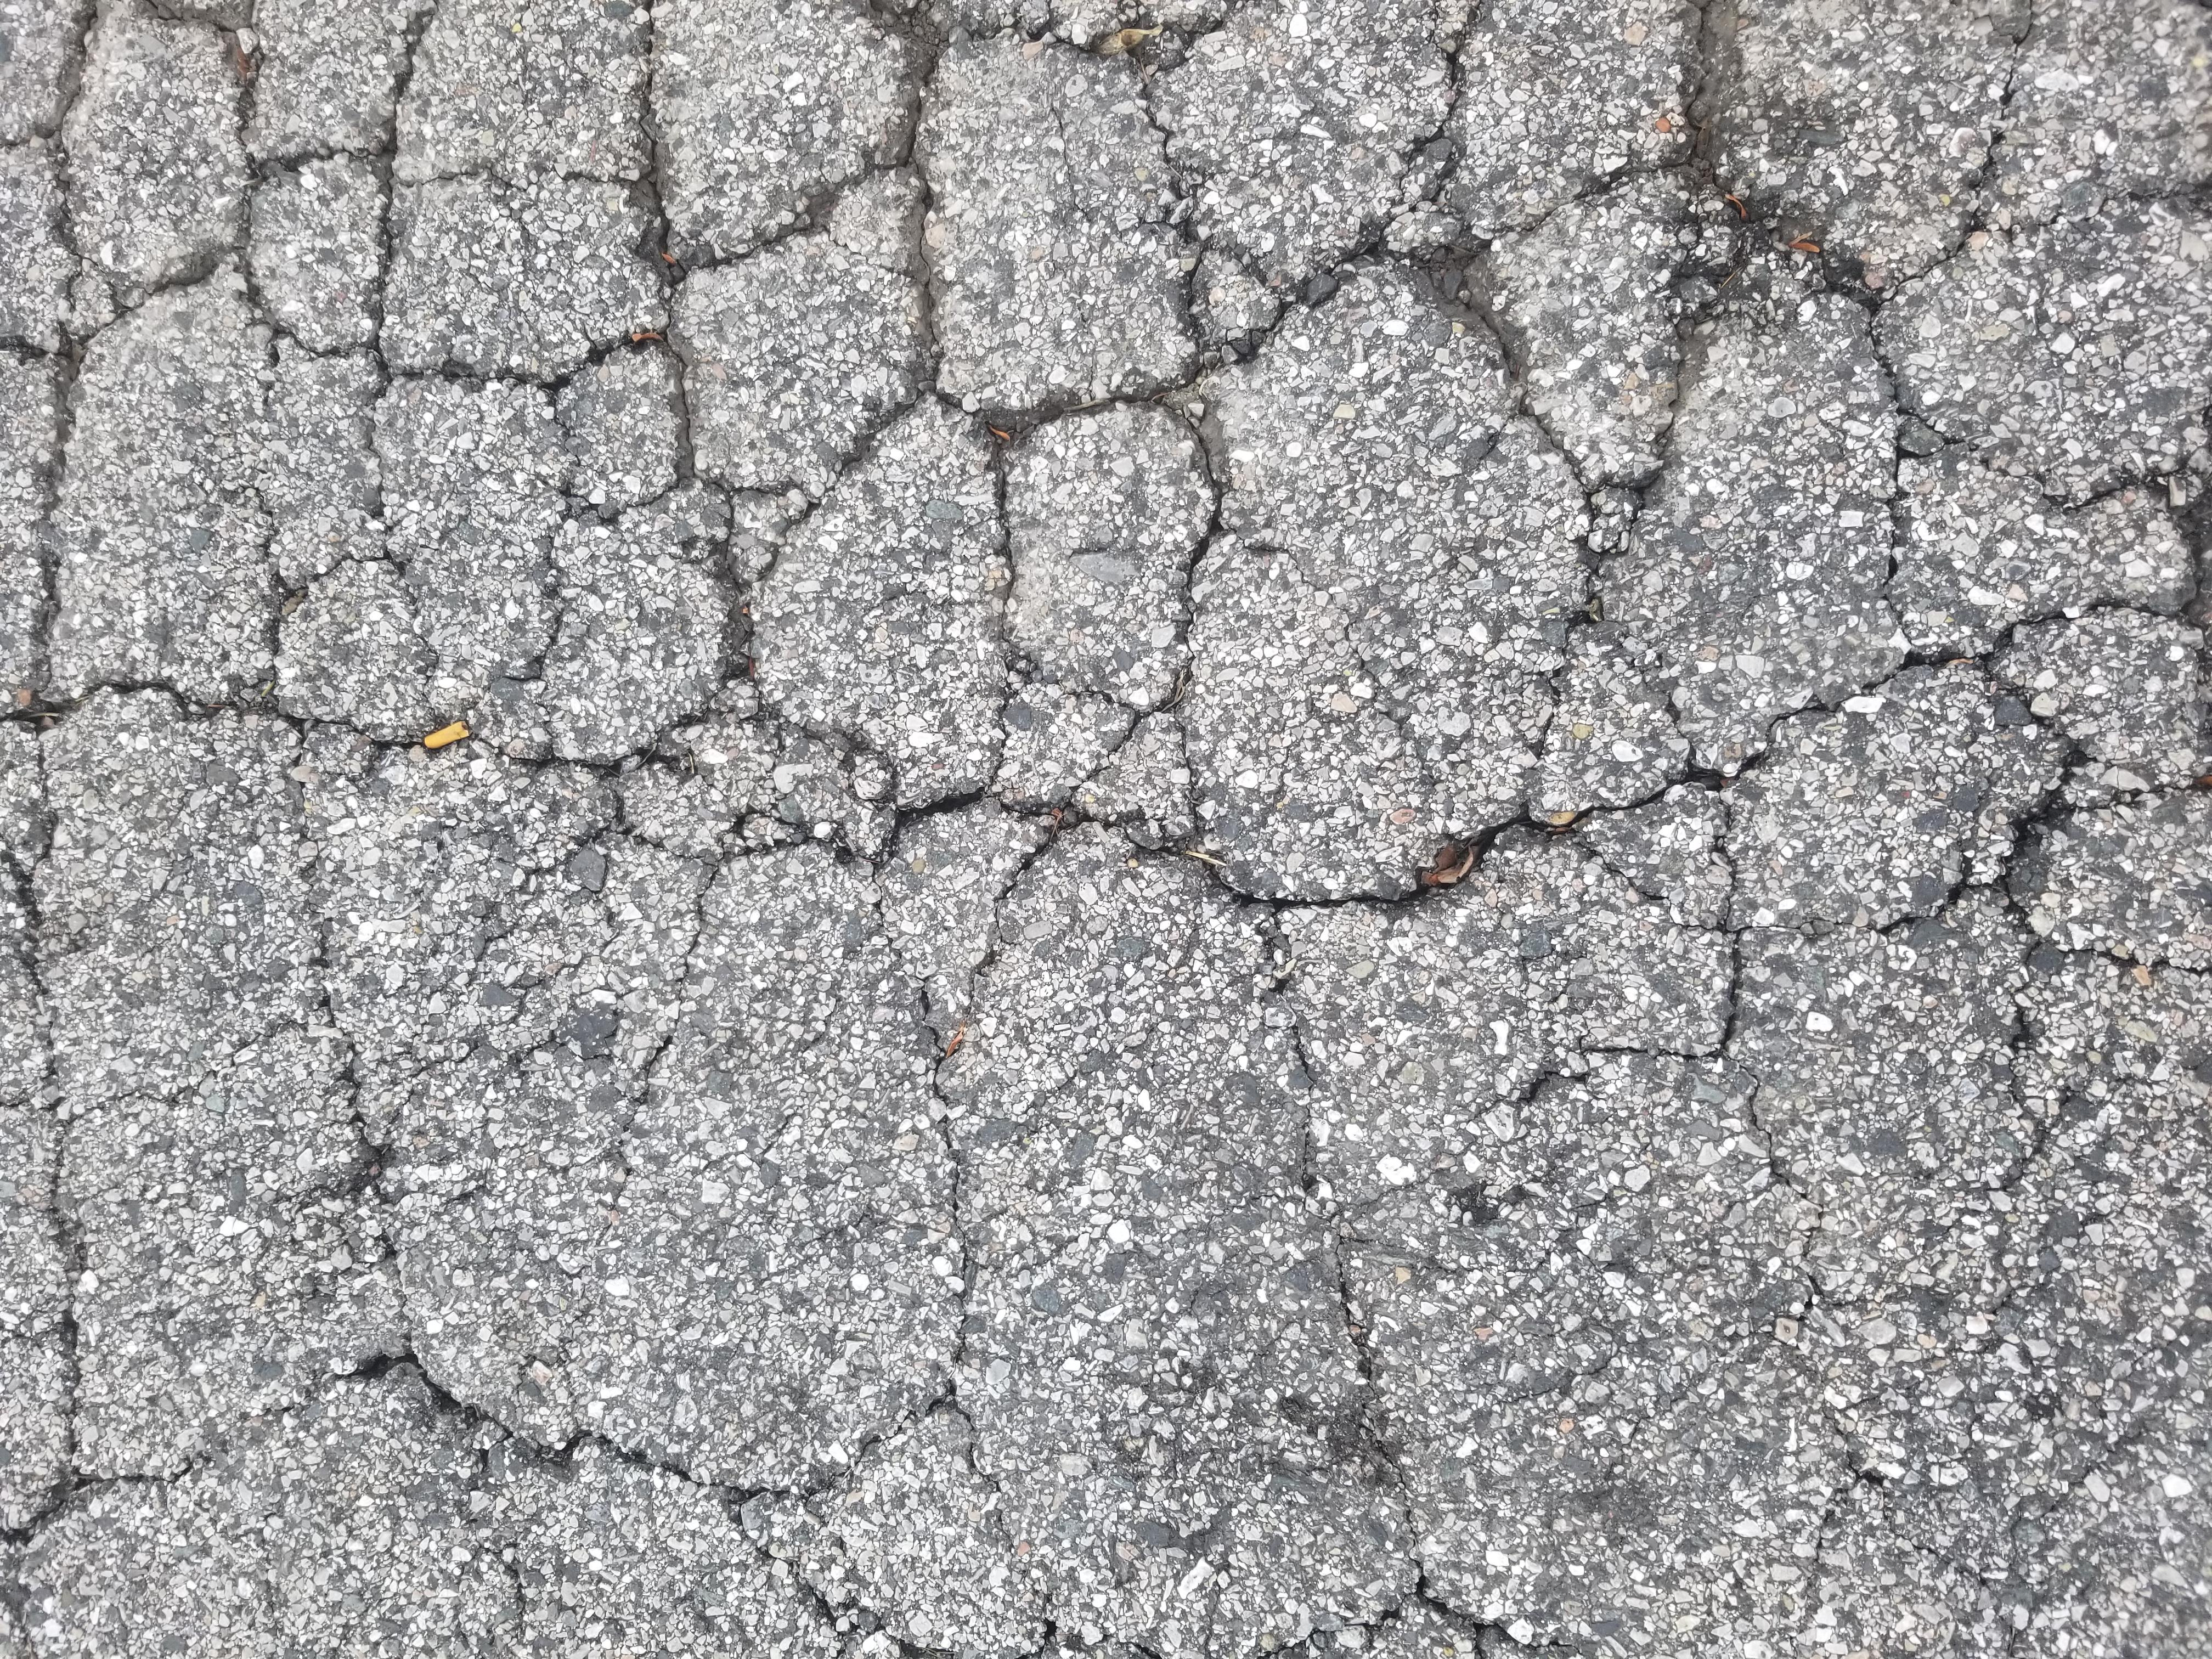alligator-crack: (70, 0, 2212, 1659)
